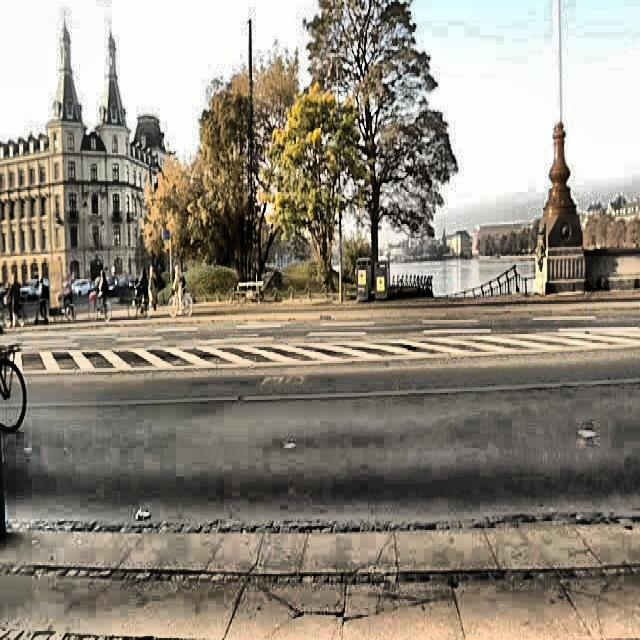bicycle: (0, 329, 28, 439)
